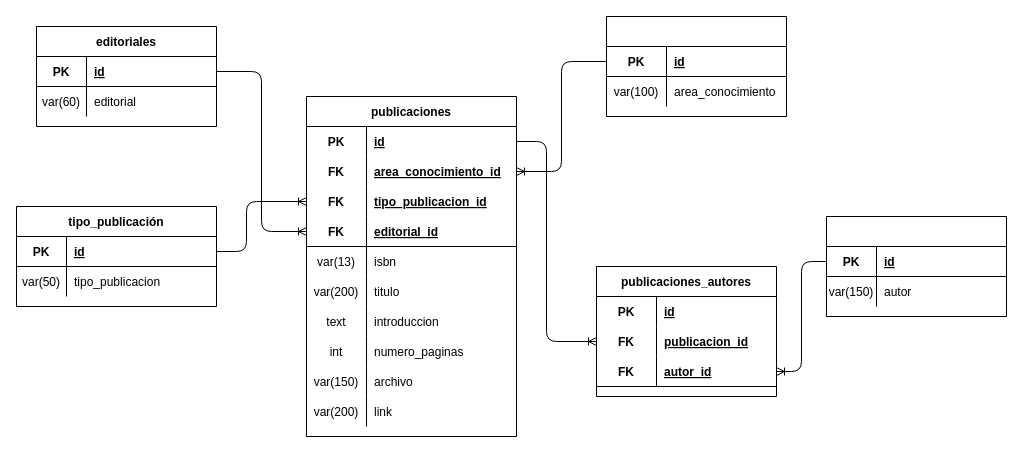
The diagram is 1023 pixels wide and 453 high, and some of its shapes have lost their labels. Here are the shapes that lost their labels. From the top down, the box of each, then its label:
(606, 16, 786, 116): areas_conocimientos
(826, 216, 1006, 316): autores
